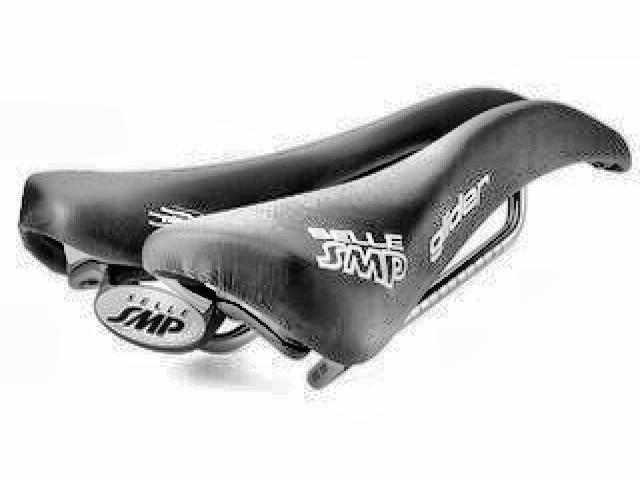saddle: (15, 88, 635, 393)
